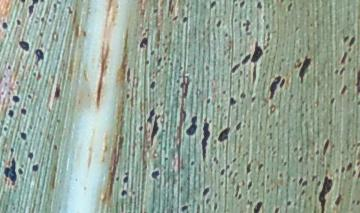tarspot: (318, 177, 334, 213), (298, 55, 311, 83), (4, 157, 17, 184), (201, 123, 210, 162), (150, 113, 160, 147), (269, 75, 281, 99), (186, 114, 198, 137), (250, 43, 262, 62), (217, 127, 231, 143), (52, 82, 62, 100), (146, 108, 155, 123), (18, 40, 30, 51), (28, 1, 38, 14), (322, 138, 330, 154), (242, 18, 251, 32), (138, 37, 148, 49), (253, 201, 263, 213), (34, 49, 44, 60), (202, 185, 211, 197), (251, 64, 257, 82), (233, 183, 241, 196), (241, 54, 251, 64), (231, 62, 240, 73), (356, 70, 360, 94), (279, 76, 286, 89), (151, 169, 160, 179), (348, 35, 356, 46), (245, 162, 252, 174), (341, 50, 347, 64), (340, 83, 347, 95), (31, 162, 39, 172), (126, 67, 131, 83), (335, 194, 342, 205), (246, 179, 253, 190), (19, 107, 28, 115), (119, 189, 128, 197), (228, 97, 237, 105), (180, 204, 188, 213), (342, 33, 350, 42), (65, 5, 73, 14), (262, 42, 270, 51), (156, 56, 163, 66), (286, 2, 293, 12), (181, 16, 189, 24), (11, 95, 20, 102), (20, 131, 27, 140), (17, 166, 24, 175), (149, 80, 156, 89), (203, 63, 210, 72), (227, 168, 233, 178), (2, 22, 9, 30), (15, 18, 22, 26), (7, 109, 14, 117), (171, 13, 178, 21), (210, 1, 217, 9), (38, 30, 45, 38), (339, 66, 346, 74), (346, 162, 353, 170), (297, 177, 304, 185), (52, 143, 59, 151), (232, 169, 239, 177), (204, 197, 211, 205), (213, 201, 218, 212), (196, 202, 201, 213), (266, 31, 271, 42), (213, 190, 219, 199), (236, 121, 241, 131), (27, 152, 34, 159), (124, 92, 131, 99), (137, 124, 144, 131), (143, 58, 150, 65), (285, 200, 292, 207), (256, 1, 263, 8), (250, 95, 257, 102), (240, 91, 247, 98), (216, 20, 222, 28), (302, 179, 308, 187), (257, 163, 263, 171), (213, 156, 219, 164), (31, 70, 37, 78), (298, 154, 303, 163), (9, 146, 15, 153), (2, 125, 8, 132), (122, 176, 129, 182), (152, 7, 158, 14), (220, 168, 226, 175), (240, 1, 246, 8), (190, 159, 196, 166), (265, 23, 271, 30), (311, 174, 317, 181), (300, 189, 306, 196), (14, 79, 21, 85), (40, 14, 45, 22), (334, 67, 339, 75), (6, 64, 12, 70), (273, 207, 279, 213), (330, 97, 336, 103), (356, 198, 360, 207), (223, 32, 229, 38), (115, 175, 120, 182), (206, 97, 211, 104), (340, 166, 345, 173), (52, 2, 57, 9), (232, 156, 237, 163), (27, 93, 32, 99), (150, 50, 155, 56), (238, 194, 243, 200), (47, 18, 54, 22), (357, 170, 360, 179), (222, 89, 227, 94), (220, 180, 225, 185), (176, 79, 180, 85), (279, 172, 283, 178), (356, 142, 360, 148), (356, 100, 360, 106), (19, 1, 27, 3), (356, 161, 360, 165), (40, 1, 46, 3)
